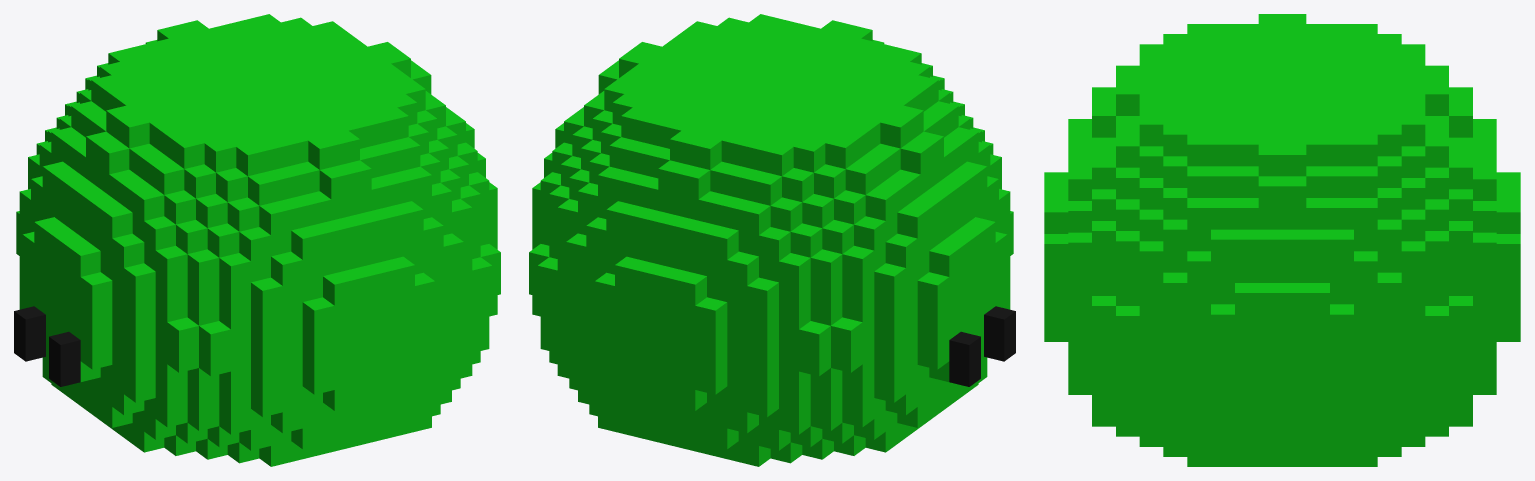
File: slime2.obj
3 views of the same model, side by side, from view 1: azimuth 30°, elevation 25°; view 2: azimuth 150°, elevation 25°; view 3: azimuth 270°, elevation 25° (orthographic). The views are drawn at different scales.
Bounding box in the file's own units: 2.1 × 1.4 × 2.
Materials: 1 (1 with a texture image).
